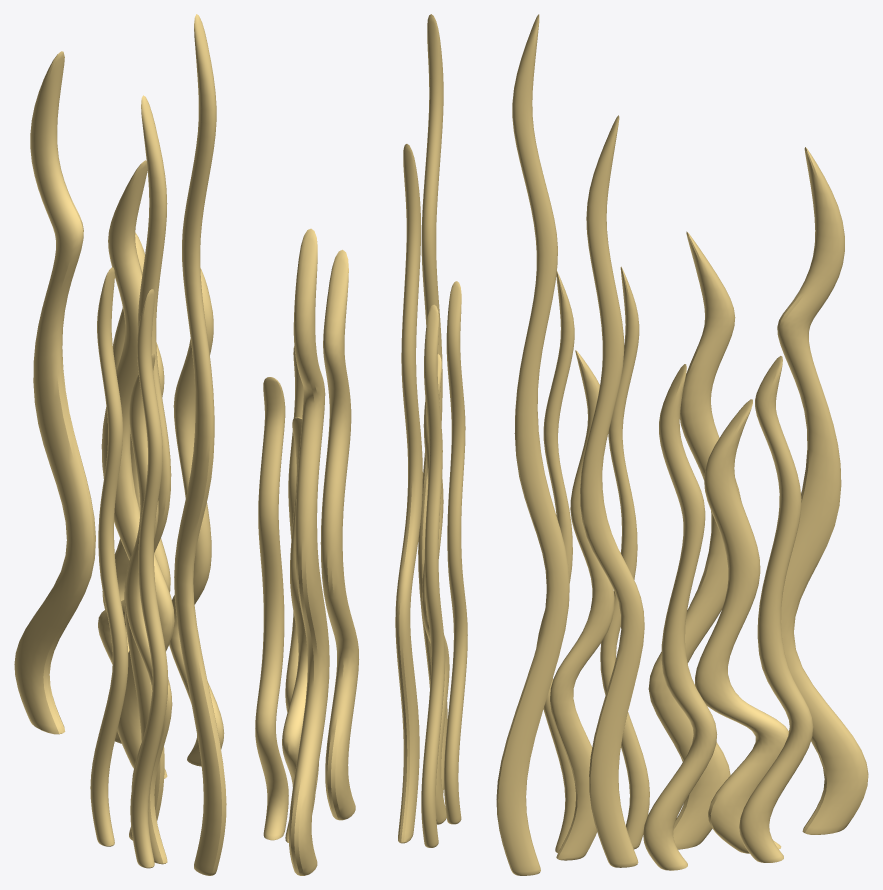
Rendered from plant 4.fbx.
3 renders of one model, left to right at view 1: azimuth 30°, elevation 25°; view 2: azimuth 150°, elevation 25°; view 3: azimuth 270°, elevation 25°, orthographic. The views are drawn at different scales.
Visible parts, largest first — view 1: plant4_1, plant4; view 2: plant4, plant4_1; view 3: plant4, plant4_1.
Boxes of the visible parts, x1,y1,x2,y2 form: plant4_1: (90, 14, 226, 875); plant4: (14, 51, 224, 778); plant4: (255, 228, 359, 875); plant4_1: (395, 14, 467, 847); plant4: (643, 147, 868, 870); plant4_1: (496, 14, 649, 875).
Bounding box in the file's own units: 7.03 × 41.92 × 16.45.
